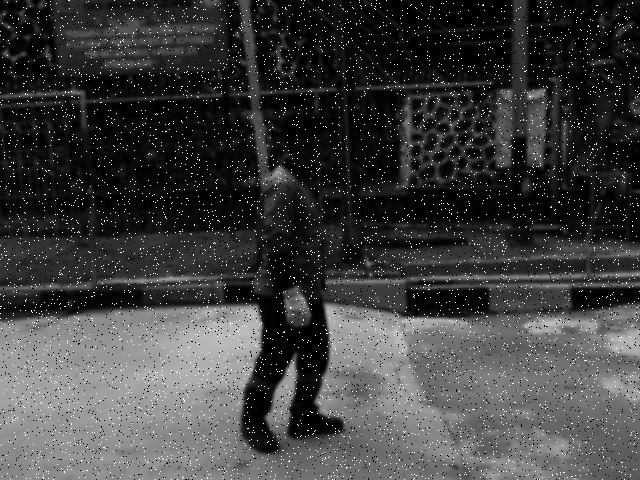gloves: (278, 281, 321, 337)
safety-shoes: (236, 413, 286, 457), (283, 407, 351, 439)
